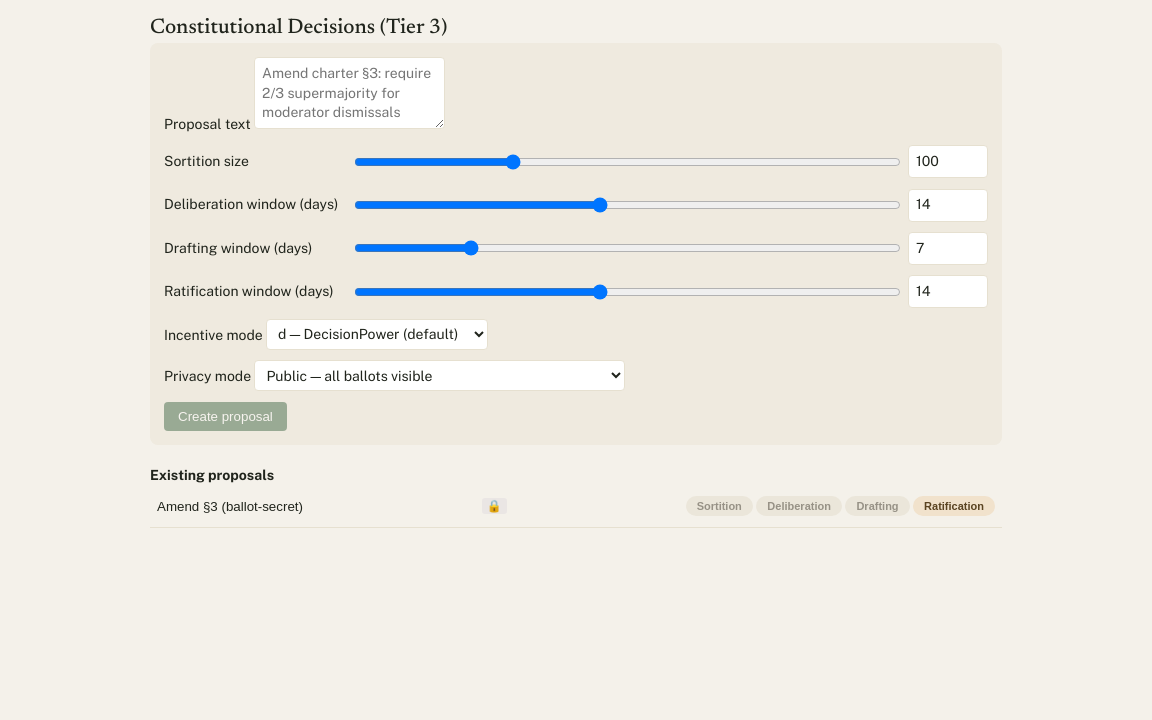
Tier3ProposalPanel — awaiting-tally state › shows committee progress banner when at least one tally share has arrived
This screenshot has width=1152, height=720.
// Click the list-row to expand into the detail pane.
Click the text "Amend §3 (ballot-secret)". click: (230, 506)
box: [157,498,303,514]
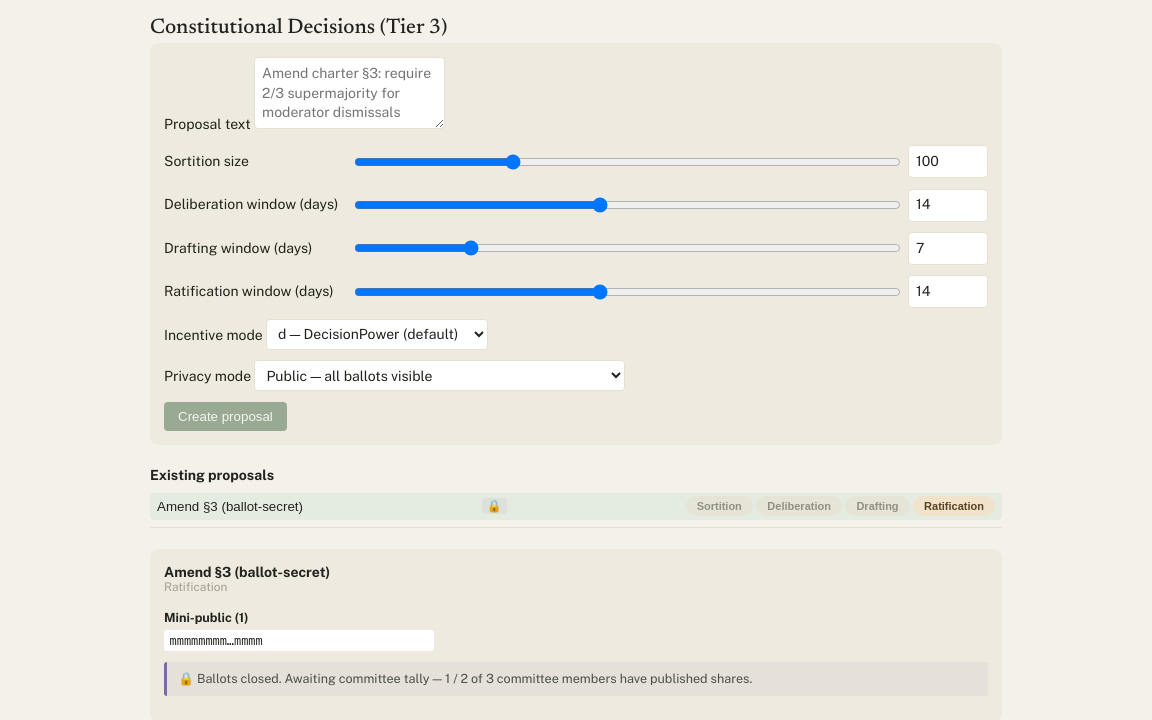
Expected: the text "Awaiting committee tally" is shown, [178,671,752,686]
